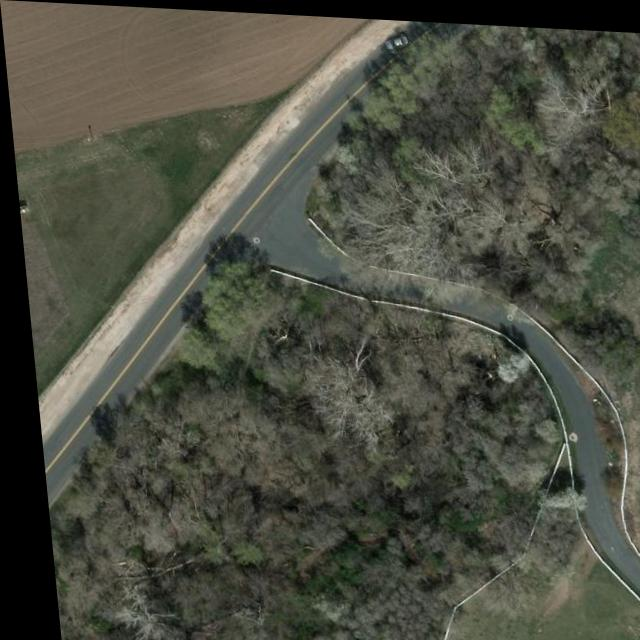vehicle: (383, 27, 412, 53)
